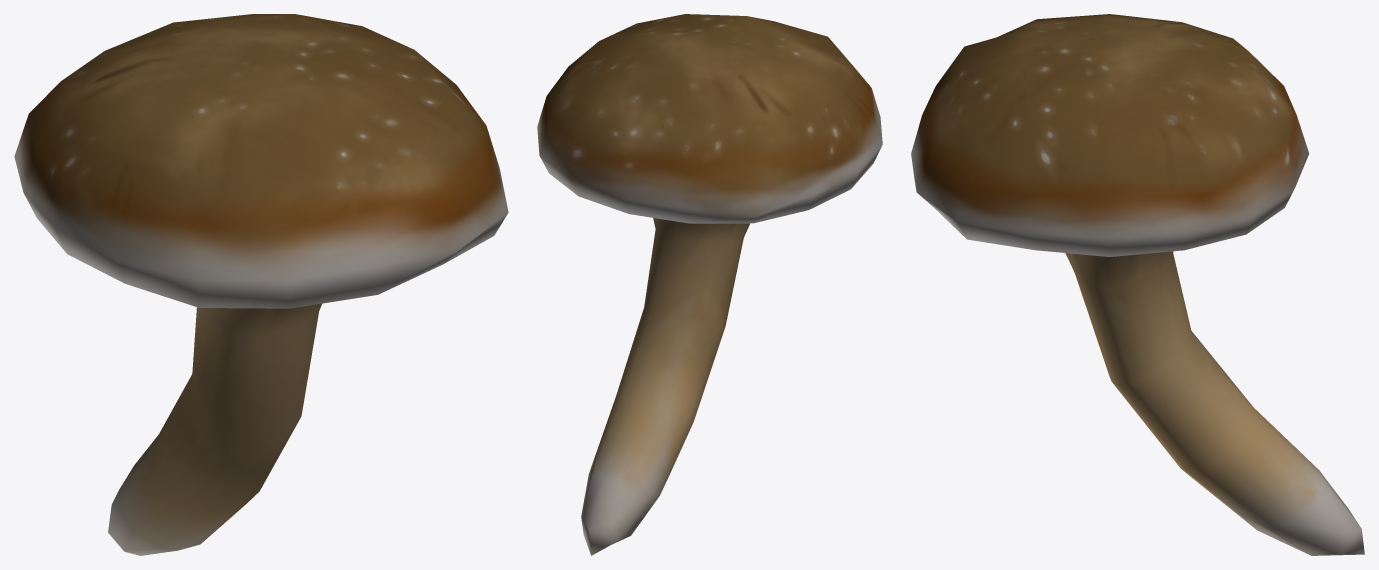
The model's file is md_mushroom_01_v2.fbx.
3 renders of one model, left to right at view 1: azimuth 30°, elevation 25°; view 2: azimuth 150°, elevation 25°; view 3: azimuth 270°, elevation 25°, orthographic. The views are drawn at different scales.
Visible parts, largest first — view 1: pCube1; view 2: pCube1; view 3: pCube1.
Boxes of the visible parts, x1,y1,x2,y2 form: pCube1: (14,14,508,555); pCube1: (537,14,882,555); pCube1: (911,14,1364,555).
Size of the model in its own units: 26.91 by 37.83 by 30.59.
Materials: 1 (1 with a texture image).
